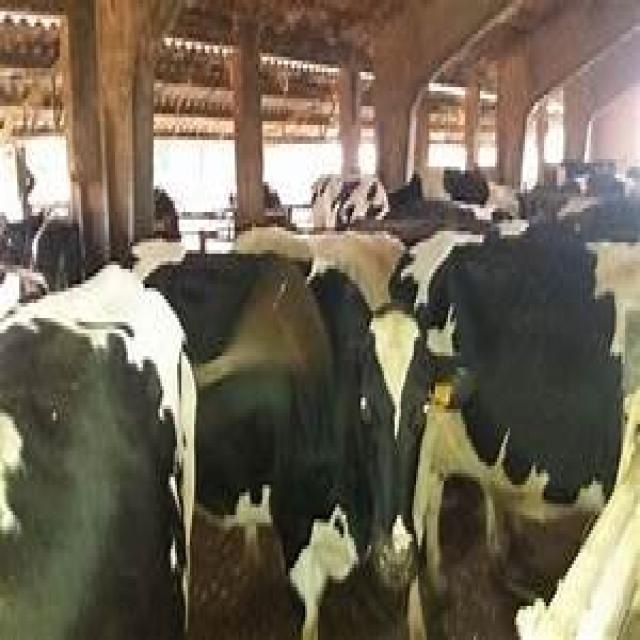cow: (145, 254, 431, 640), (412, 223, 640, 553), (0, 273, 190, 640)
